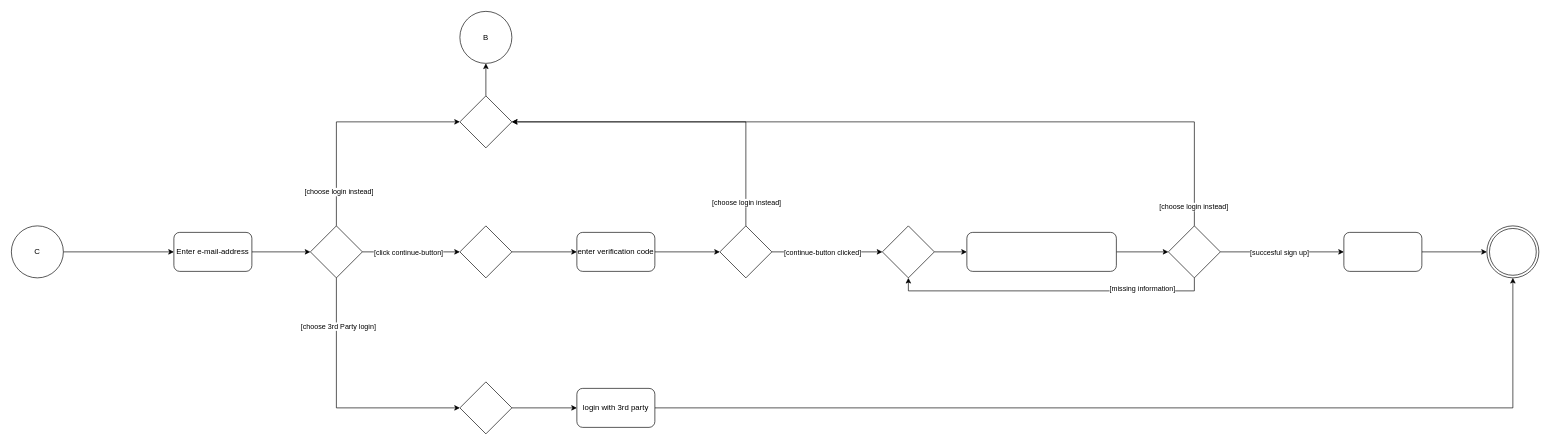
This 1550x445 diagram has some shape labels left out. Here are the shapes that lost their labels. From the top down, the centre of each, then its label:
(x=1041, y=251): enter new email,password and accept ToS
(x=1382, y=251): account signed up
